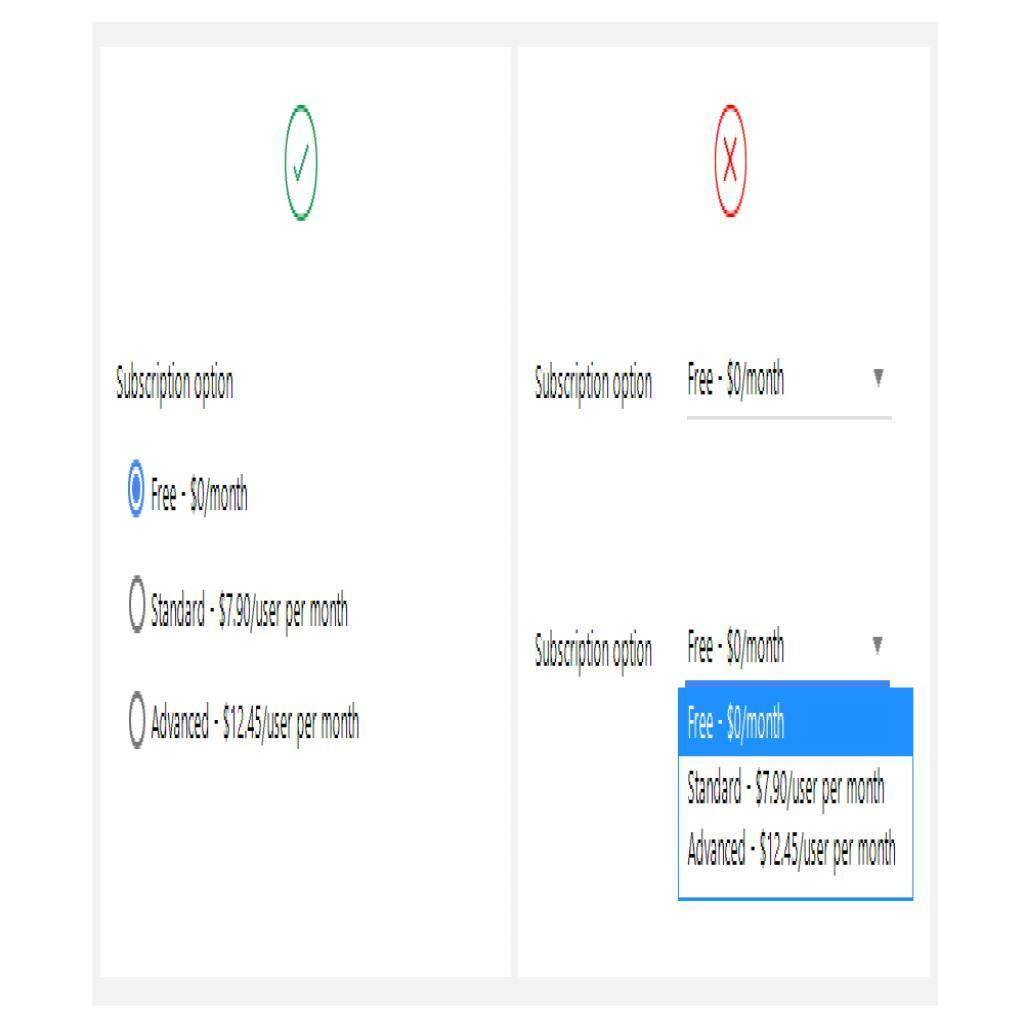button: (680, 690, 913, 758)
icon: (867, 362, 893, 401), (868, 631, 892, 668)
label: (152, 702, 364, 746), (152, 590, 352, 631), (531, 626, 661, 679), (529, 357, 659, 408), (113, 363, 240, 403), (149, 471, 252, 514)
radio: (127, 575, 148, 633), (127, 457, 145, 522), (129, 693, 147, 751)
